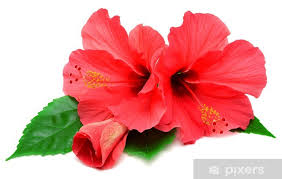hybiscus: (64, 8, 170, 132)
